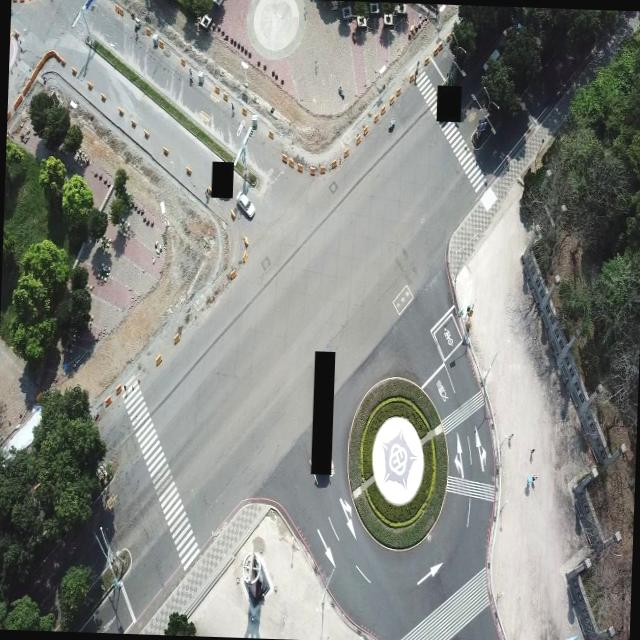car: (234, 193, 254, 219)
